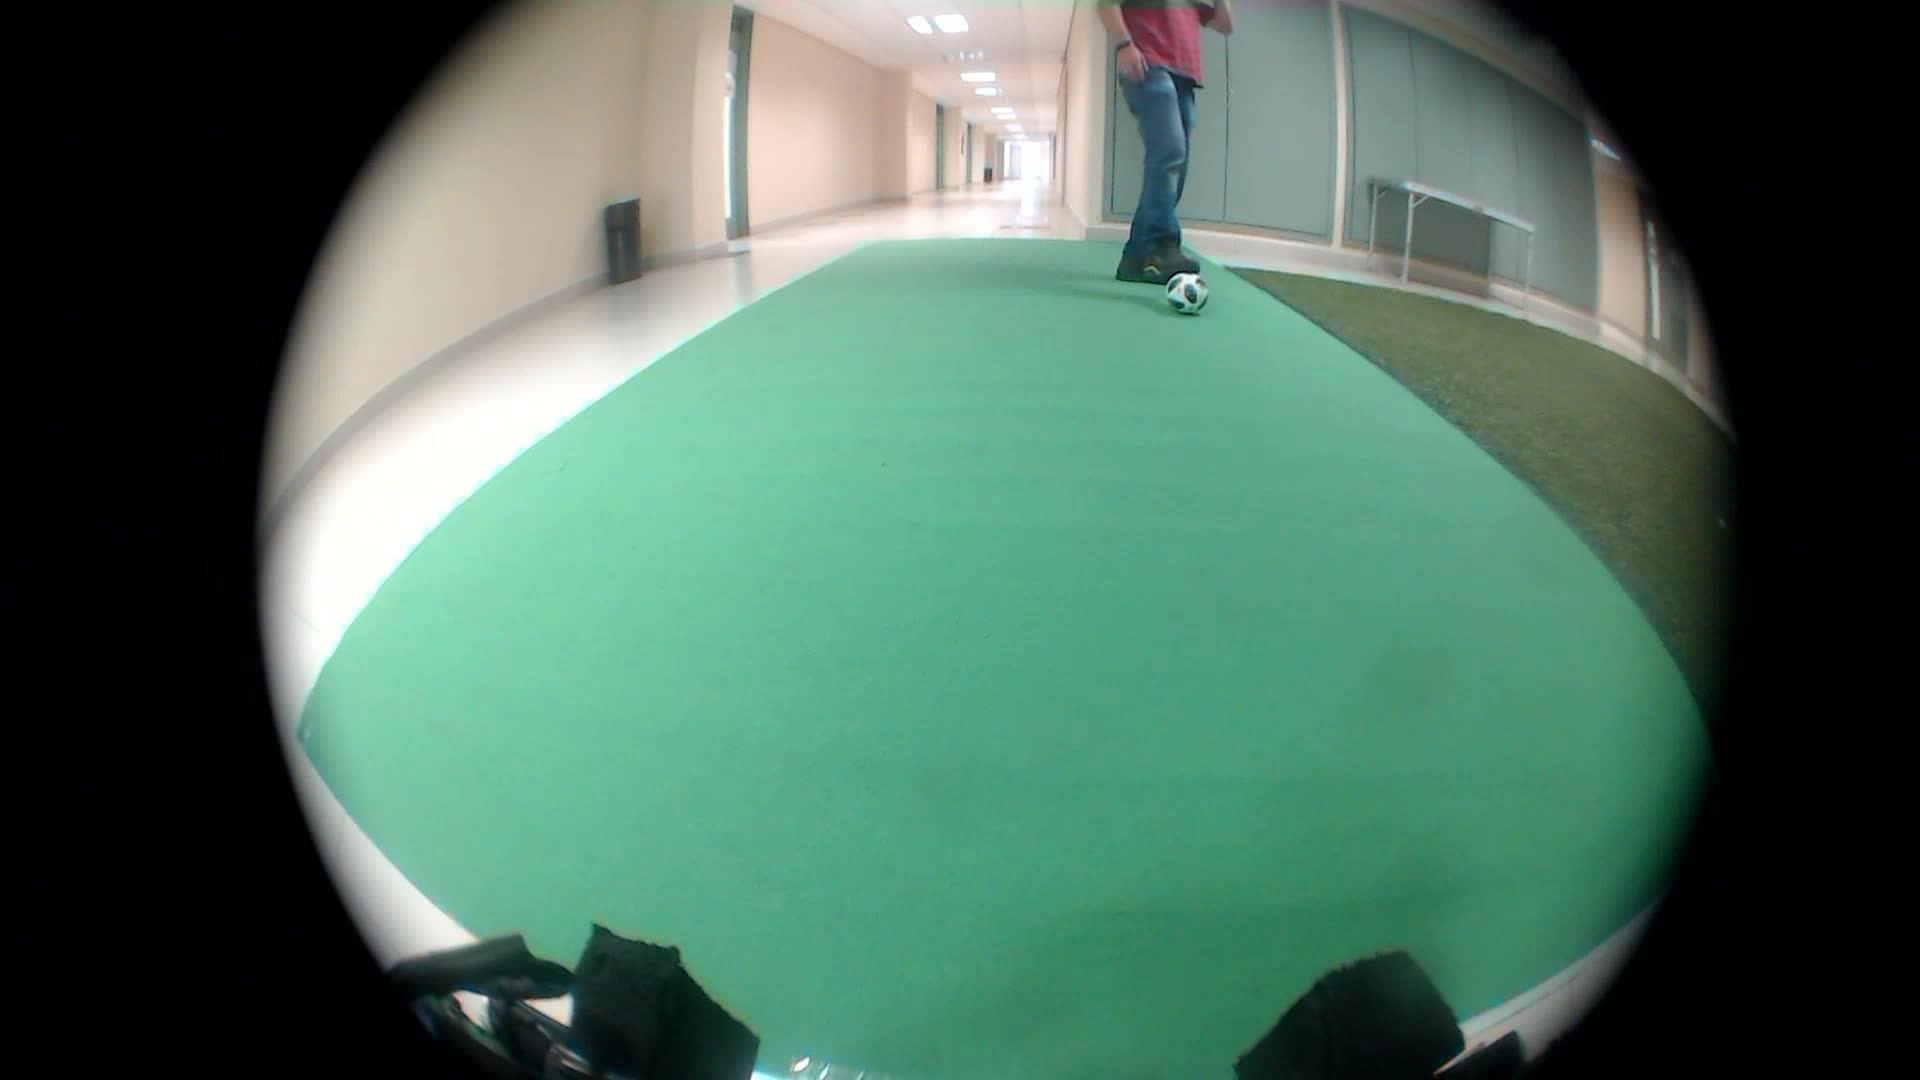ball: (1164, 272, 1216, 324)
